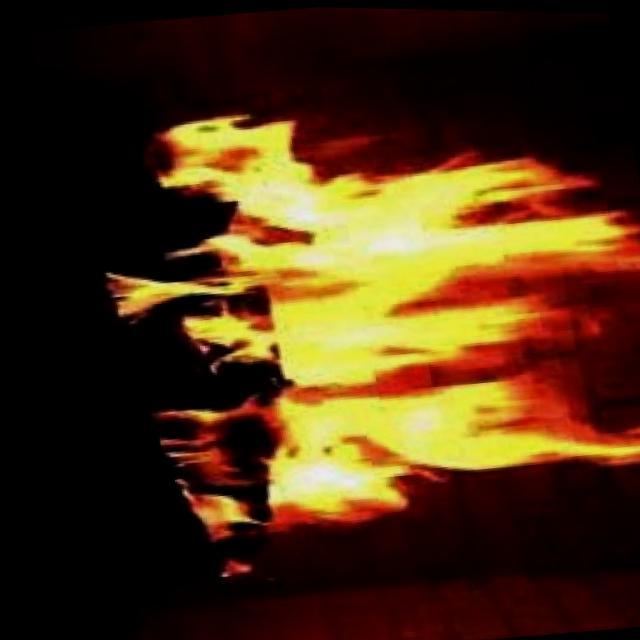helmet: (60, 62, 640, 599)
